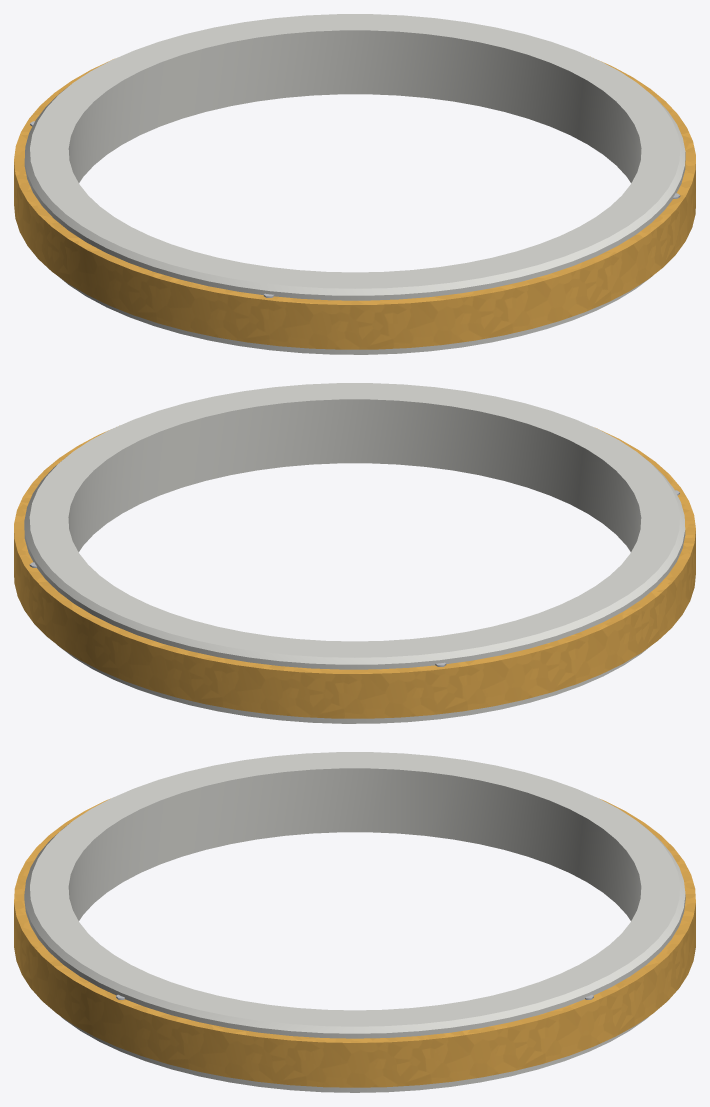
Rendered from ax_util_30_sunshade_l.glb.
3 views of the same model, one above another, from view 1: azimuth 30°, elevation 25°; view 2: azimuth 150°, elevation 25°; view 3: azimuth 270°, elevation 25° (orthographic).
Parts seen in each view (by area): view 1: canister_ring, membrane_stowed; view 2: canister_ring, membrane_stowed; view 3: canister_ring, membrane_stowed.
Boxes of the visible parts, bbox=[...] form: canister_ring: bbox=[24, 14, 685, 354]; membrane_stowed: bbox=[14, 56, 695, 349]; canister_ring: bbox=[24, 383, 685, 723]; membrane_stowed: bbox=[14, 425, 695, 718]; canister_ring: bbox=[24, 752, 685, 1092]; membrane_stowed: bbox=[14, 798, 695, 1087].
Size of the model in its own units: 3.87 by 0.4 by 3.87.
Materials: 3 (2 with a texture image).
